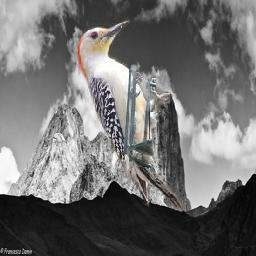Woodpecker: (75, 16, 184, 212)
